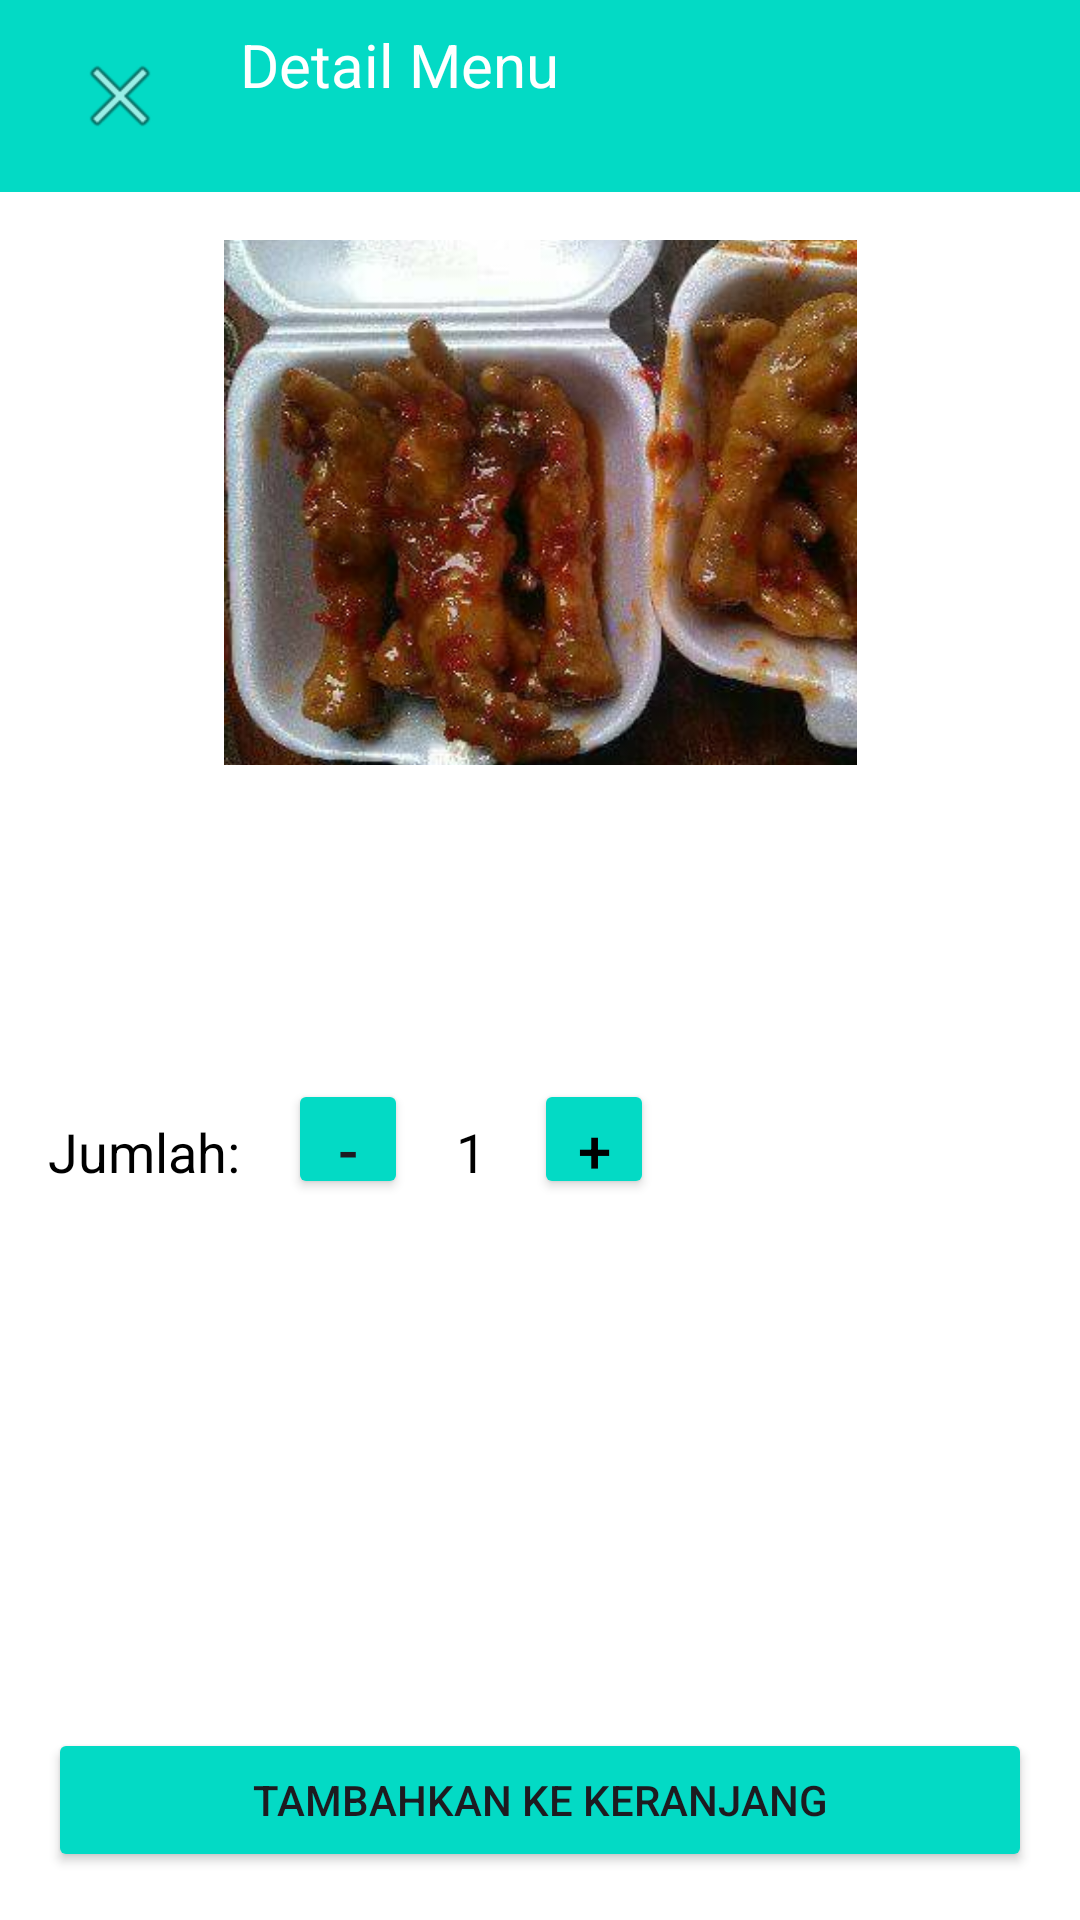

Locate icon controls on the screen. Image size 1080w x 1920h, boxes as region(x1, y1, x2, y2).
Back: region(90, 66, 150, 126)
